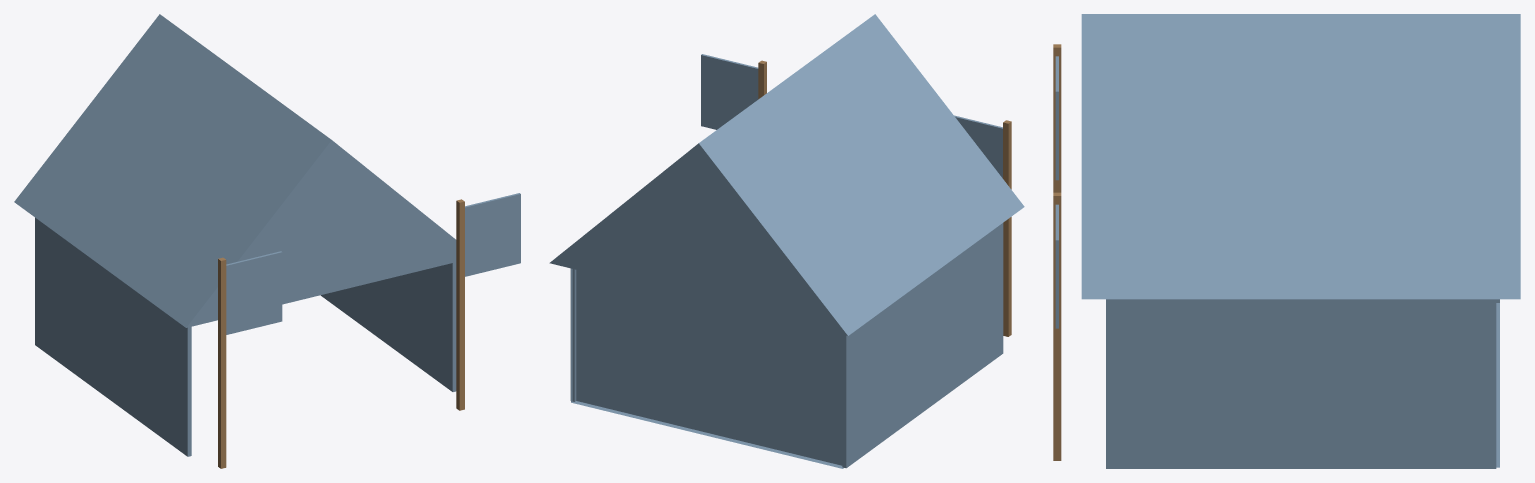
Rendered from command-tent.glb.
3 views of the same model, side by side, from view 1: azimuth 30°, elevation 25°; view 2: azimuth 150°, elevation 25°; view 3: azimuth 270°, elevation 25° (orthographic). The views are drawn at different scales.
Visible parts, largest first — view 1: command-tent; view 2: command-tent; view 3: command-tent.
Boxes of the visible parts, <box> form: command-tent: <box>14,14,520,468</box>; command-tent: <box>549,14,1024,468</box>; command-tent: <box>1053,14,1520,468</box>.
Size of the model in its own units: 4.9 by 4.2 by 4.79.
